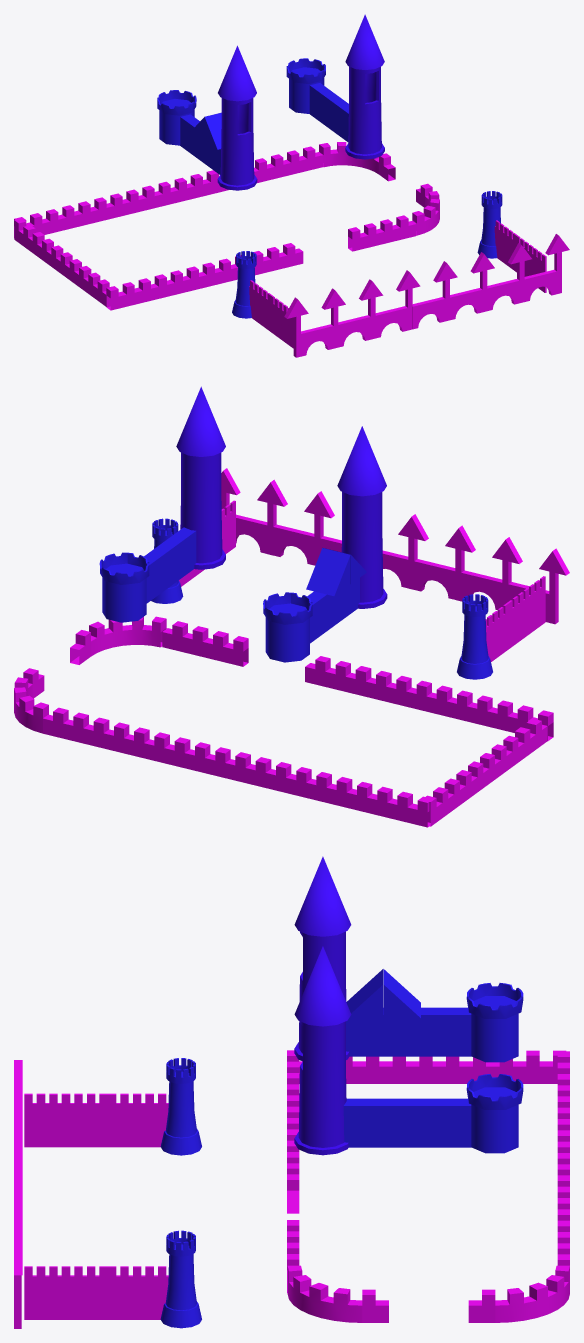
3 views of the same model, one above another, from view 1: azimuth 30°, elevation 25°; view 2: azimuth 150°, elevation 25°; view 3: azimuth 270°, elevation 25° (orthographic). The views are drawn at different scales.
Parts seen in each view (by area): view 1: Box599, Object087; view 2: Box599, Object087; view 3: Box599, Object087.
Part boxes in pixels (x1,y1,x2,y2): Box599: (14, 142, 569, 357); Object087: (157, 14, 384, 190); Box599: (14, 468, 569, 827); Object087: (99, 386, 387, 662); Box599: (14, 1050, 569, 1328); Object087: (294, 856, 523, 1155).
Size of the model in its own units: 336 by 196 by 308.
